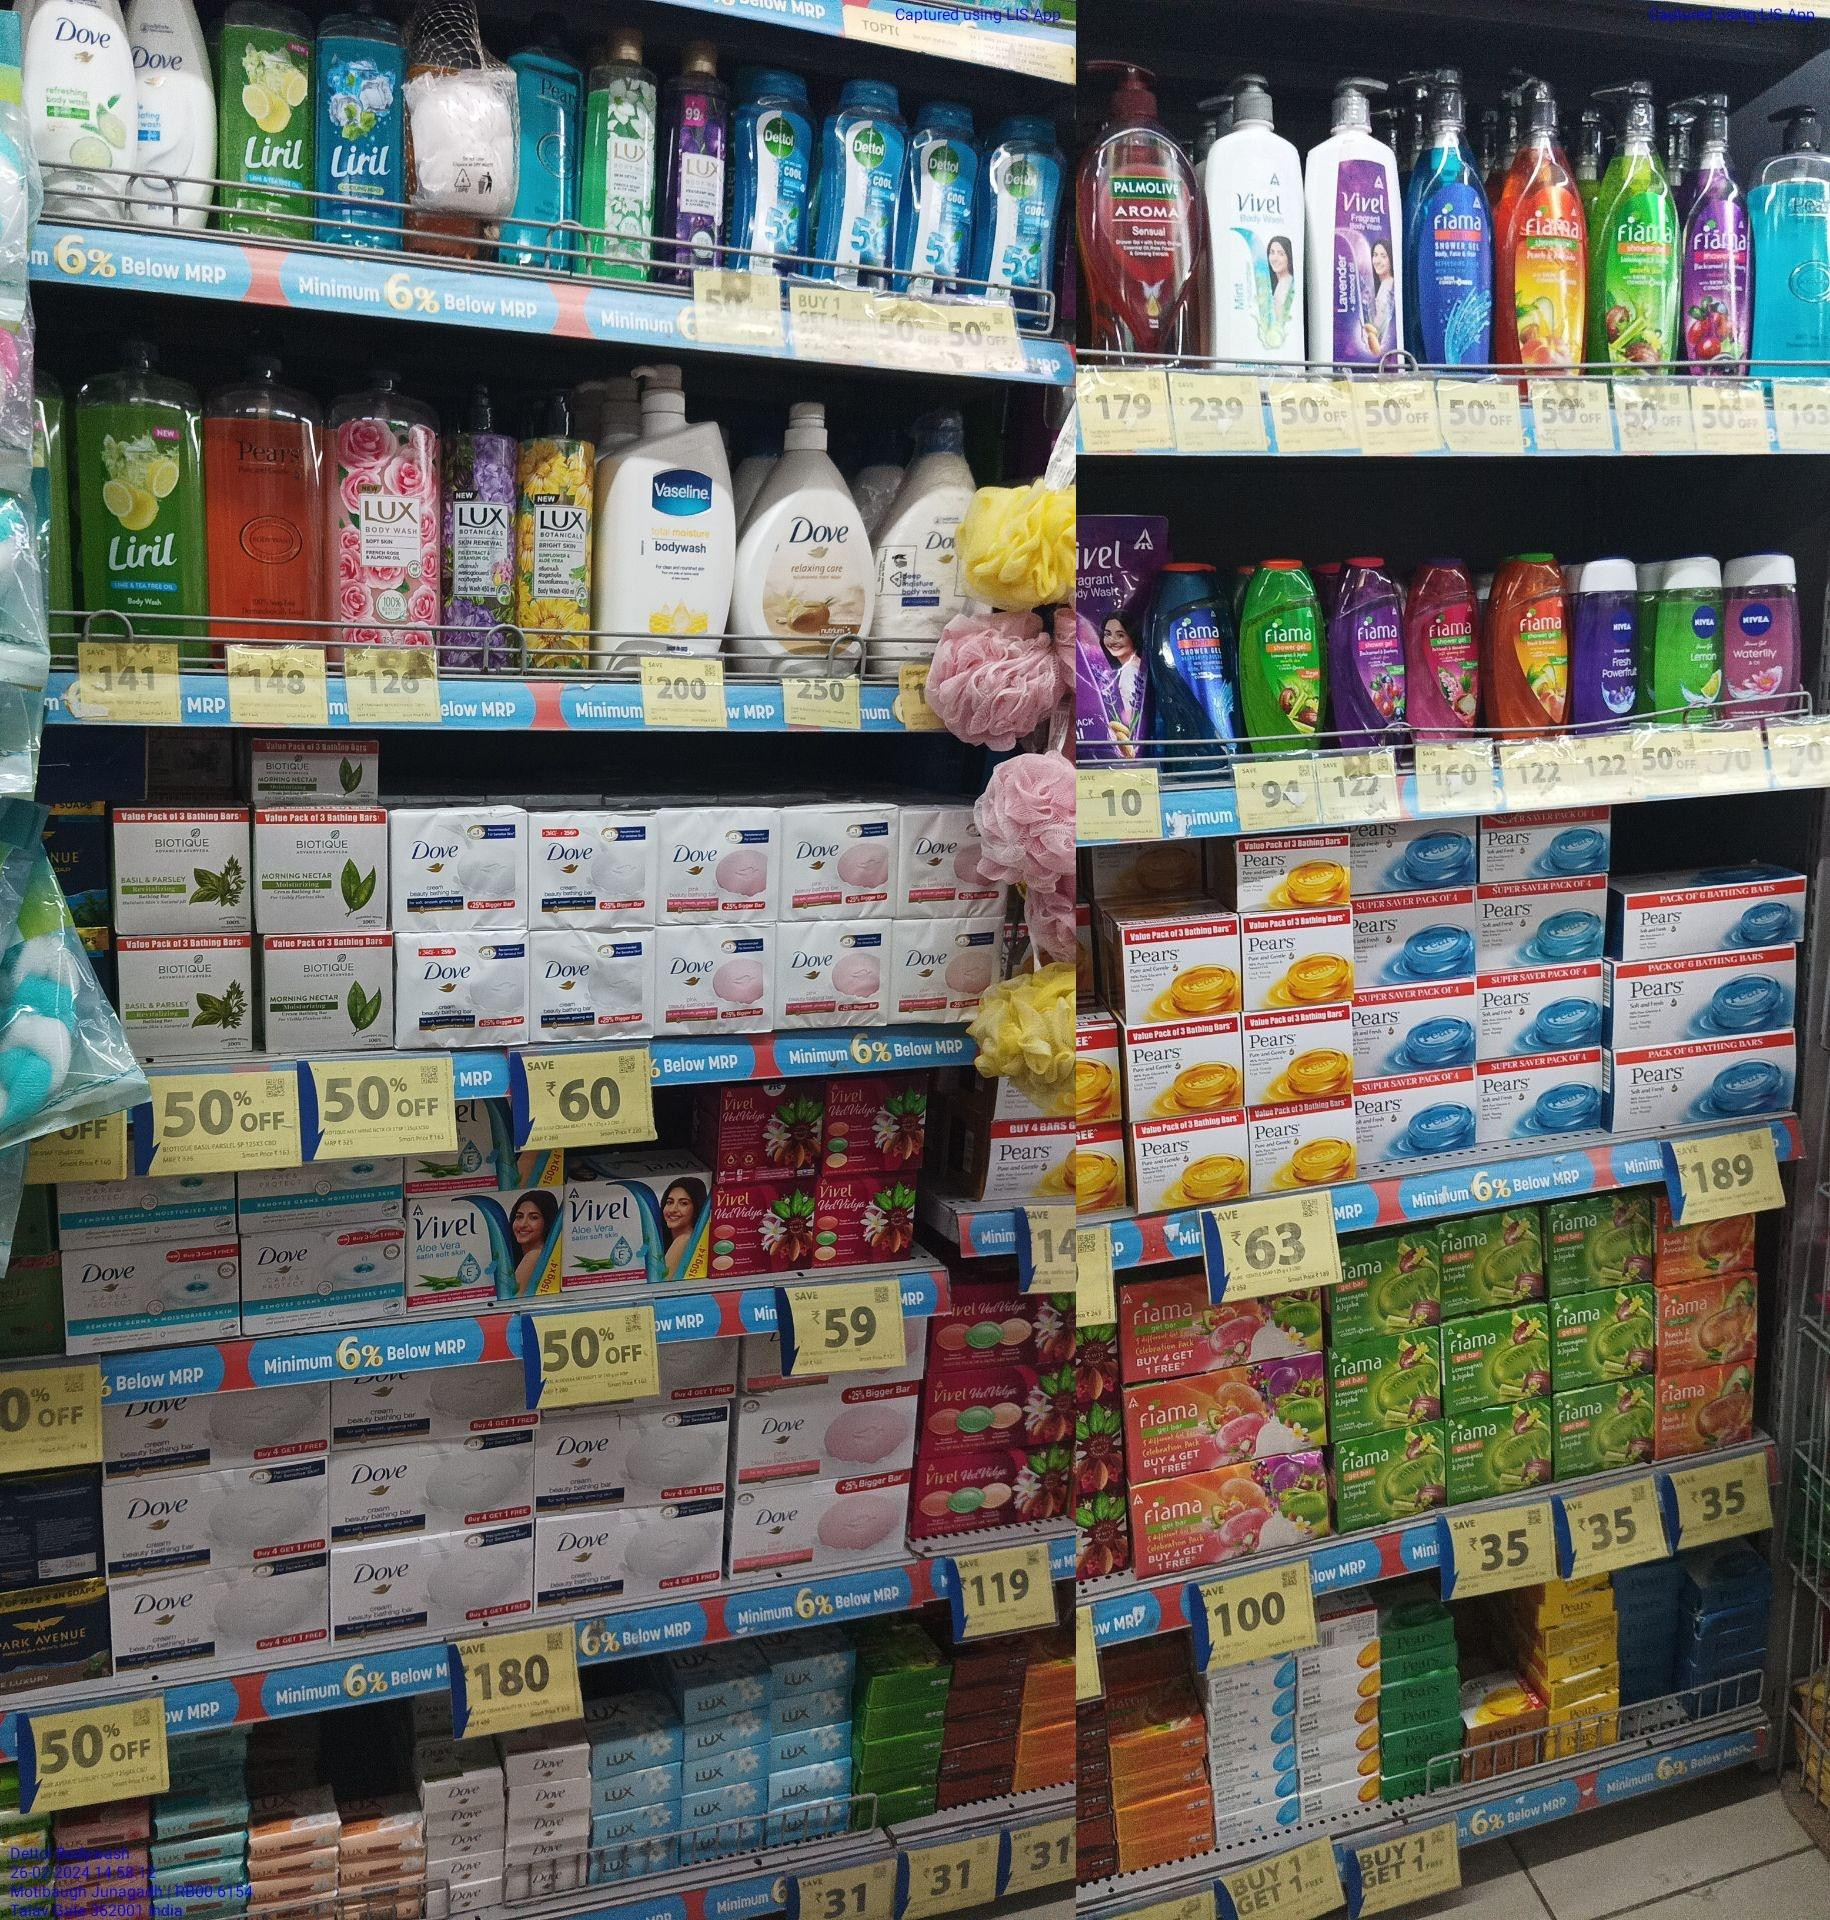Dettol_Bodywash_Cool: (810, 74, 906, 291), (728, 67, 819, 283), (975, 115, 1062, 331), (896, 91, 973, 305)
Dove_Gentle_Exfoliating_Body_Wash_250ML: (123, 0, 218, 226)
Dove_Refreshing_Body_Wash_250ML: (29, 2, 139, 228)
Fiama_Shower_Gel_Lemongrass_and_Jojoba_250ML: (1241, 554, 1326, 753)
Fiama_Shower_Gel_Patchouli_and_Macadamia_250ML: (1407, 555, 1482, 739)
Fiama_Shower_Gel_Peach_and_Avocado_250ML: (1486, 550, 1571, 737)
Lux_Black_Orchid_Scent_and_Juniper_Oil_Body_Wash_245ML: (658, 36, 730, 283)
Nivea_Shower_Gel_Fresh_Powerfruit_250ML: (1575, 555, 1638, 735)
Nivea_Shower_Gel_Lemon_and_Oil_250ML: (1648, 555, 1725, 722)
Nivea_Shower_Gel_Waterlily_and_Oil_250ML: (1724, 552, 1804, 720)
